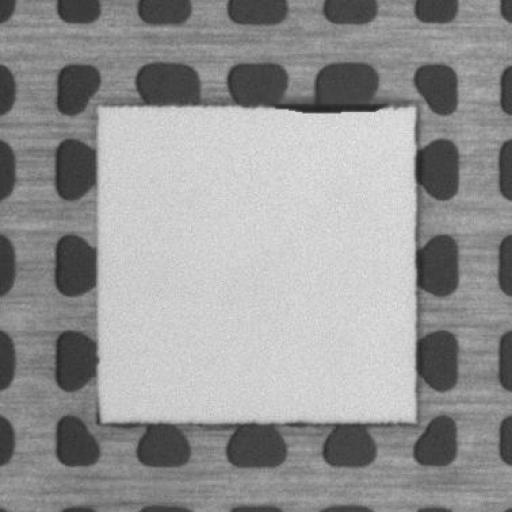DIE_BROKEN: (268, 95, 390, 112)
